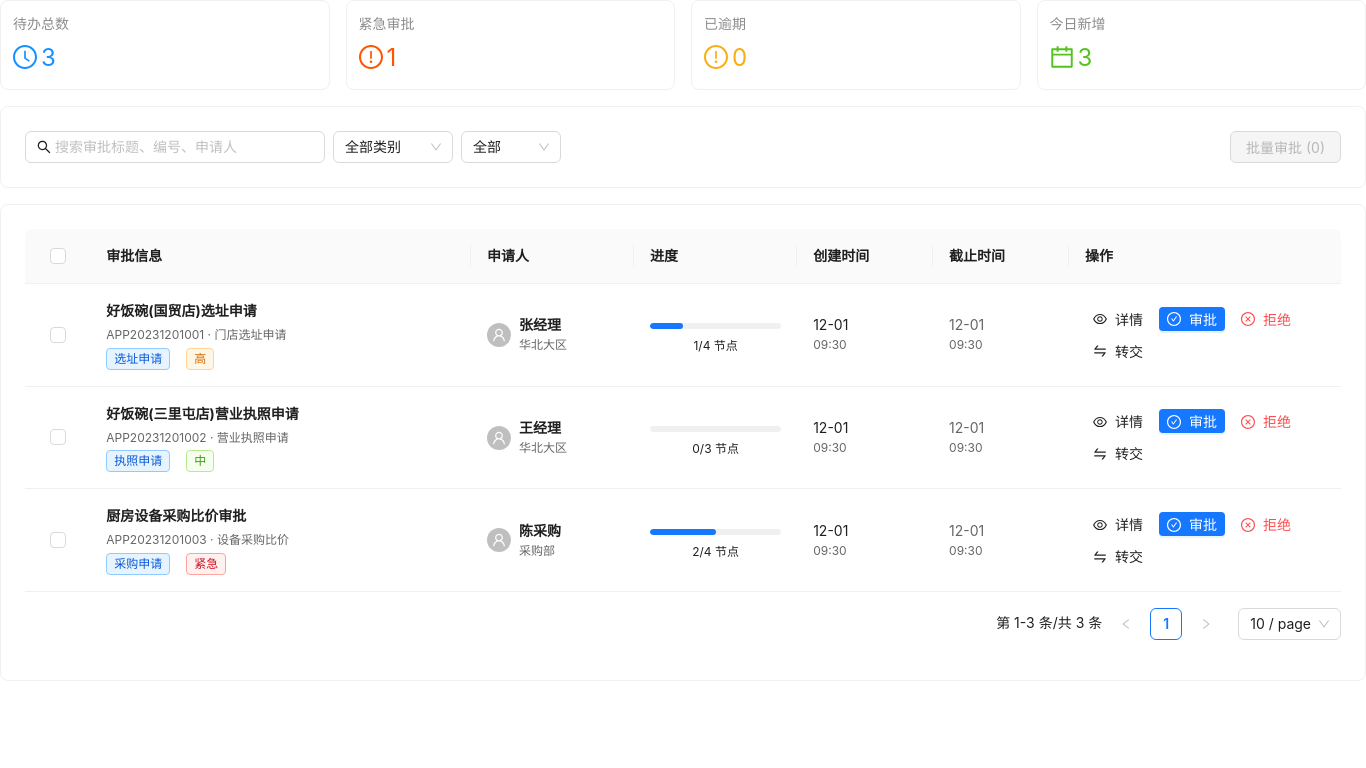
it: PendingApprovals › Search and Filter › should filter by search text
In the field with placeholder "搜索审批标题、编号、申请人": (184, 147) [55, 136, 313, 158], type "国贸"
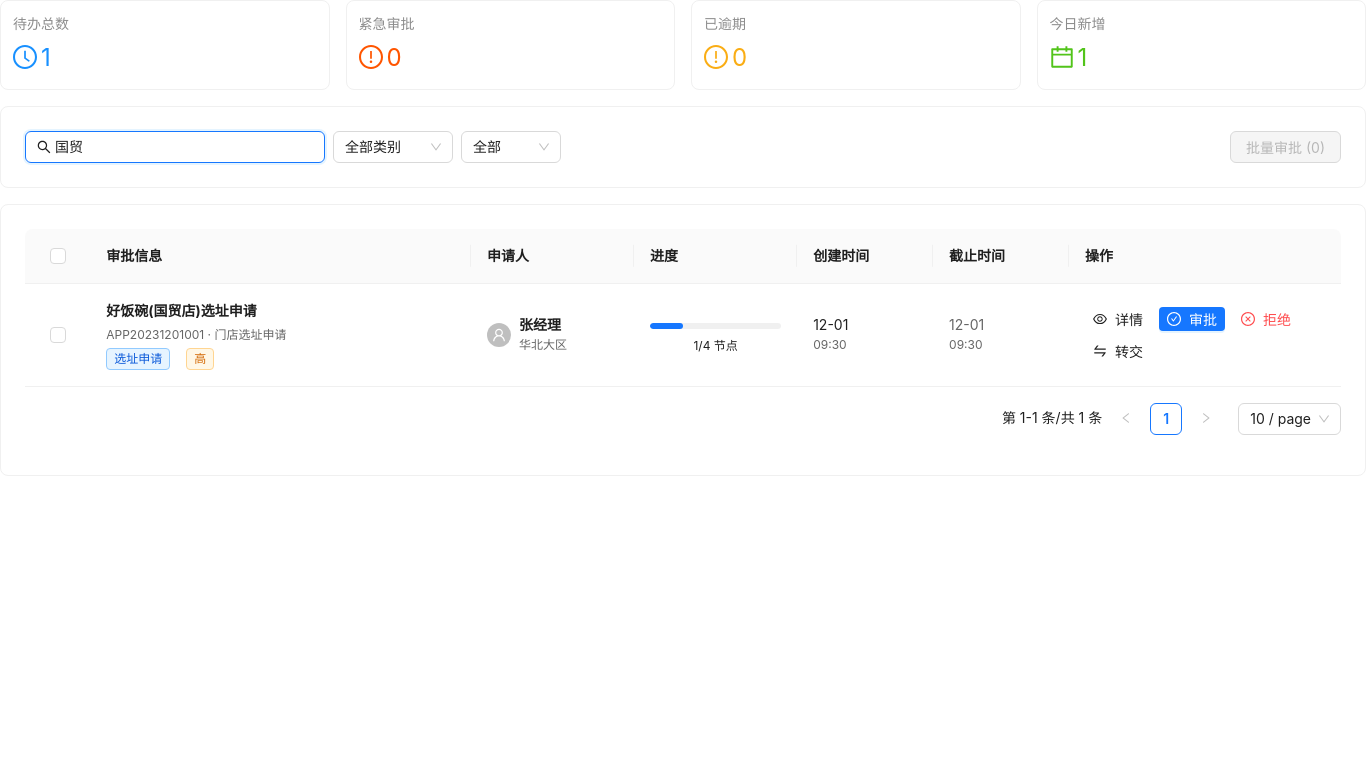
Expected: the text "好饭碗(国贸店)选址申请" is shown, [106, 302, 257, 319]
Now the text "好饭碗(三里屯店)营业执照申请" is gone
